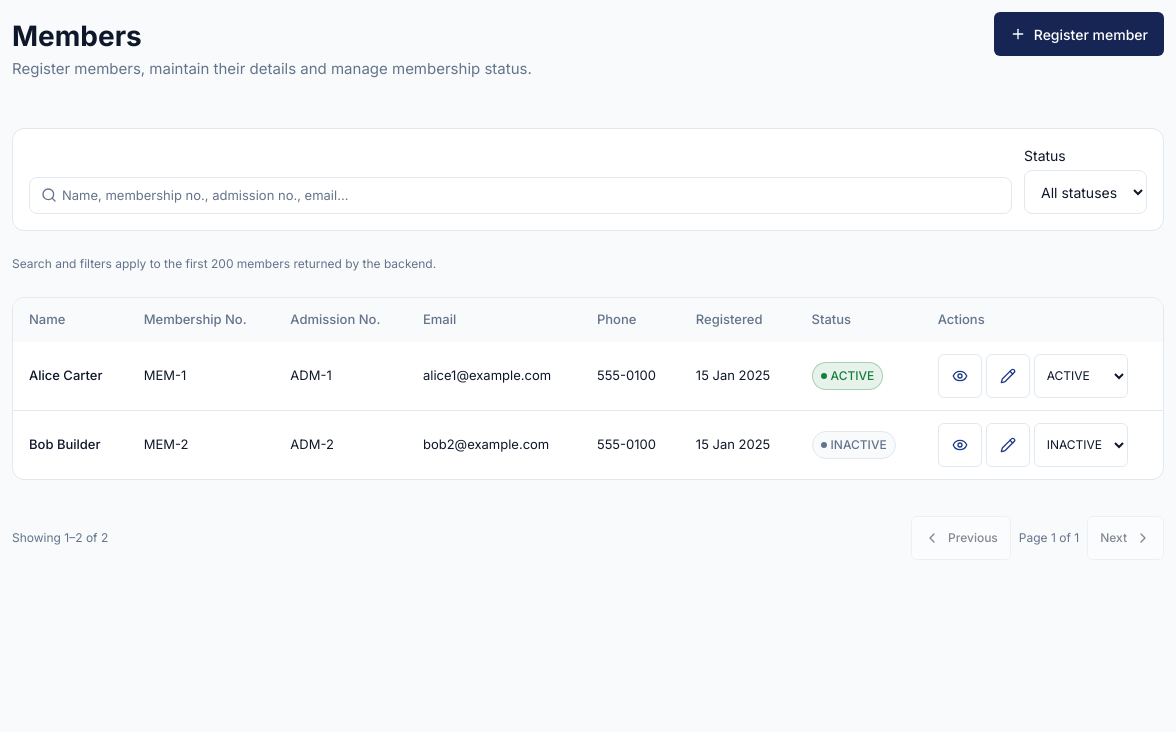
Test: MemberListPage › renders real MemberResponse data and searches client-side
The width and height of the screenshot is (1176, 732).
Check: the text "Alice Carter" is shown, box [29,367,102,383]
Check: the text "Bob Builder" is shown, box [29,436,100,452]
Type "bob" into the search field named "Search members" at (520, 195), box [29,177,1012,214]
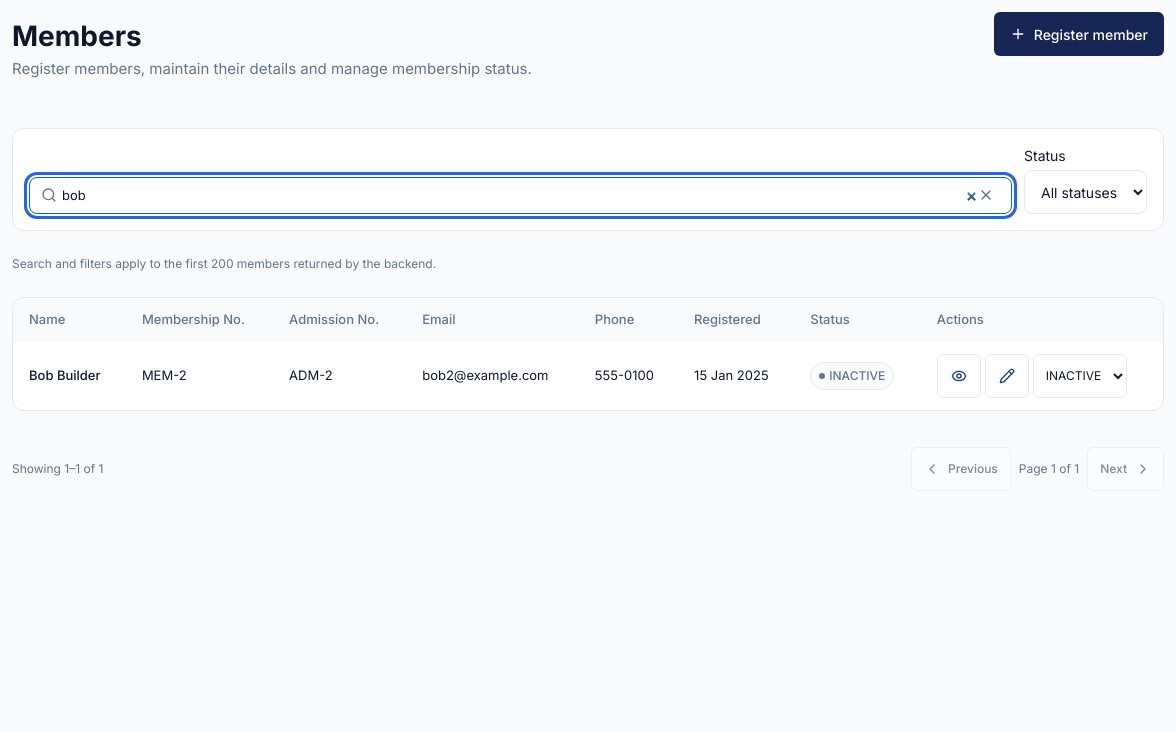
Check: the text "Bob Builder" is shown, box [29,367,100,383]
Check: the text "Alice Carter" is gone
